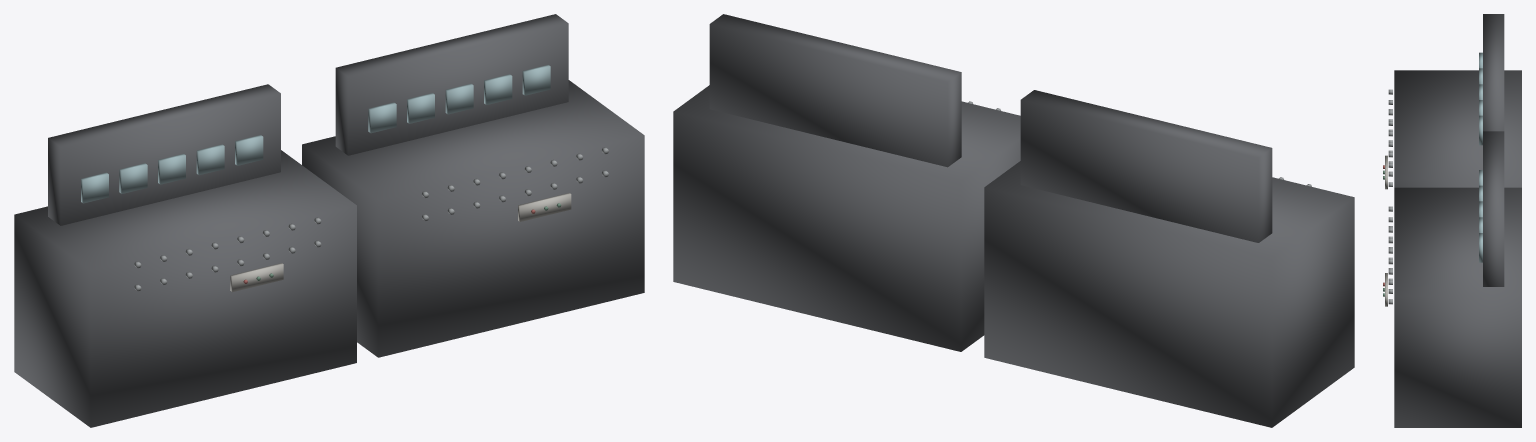
The model's file is radio_console__cluster.glb.
3 views of the same model, side by side, from view 1: azimuth 30°, elevation 25°; view 2: azimuth 150°, elevation 25°; view 3: azimuth 270°, elevation 25° (orthographic). The views are drawn at different scales.
Parts seen in each view (by area): view 1: world; view 2: world; view 3: world.
Part boxes in pixels (<box>): world: <box>14,14,644,427</box>; world: <box>673,14,1354,427</box>; world: <box>1383,14,1521,427</box>.
Bounding box in the file's own units: 3.02 × 1.23 × 0.7835.
